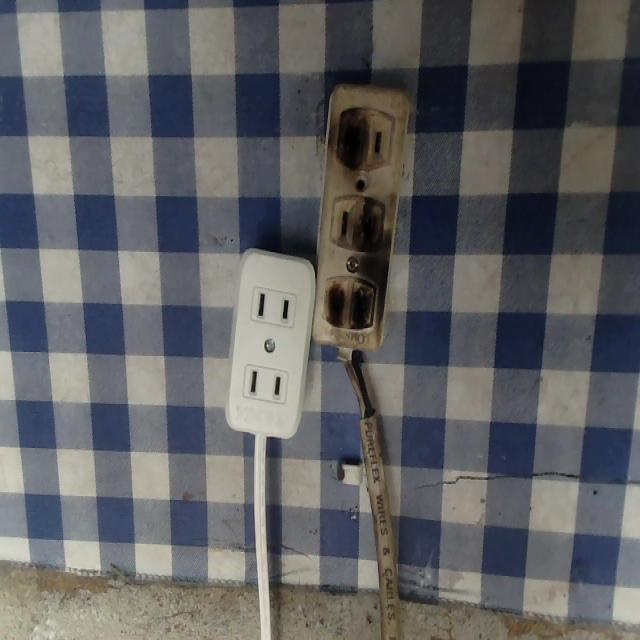-: (322, 276, 382, 343), (329, 102, 376, 178), (352, 196, 395, 253)
